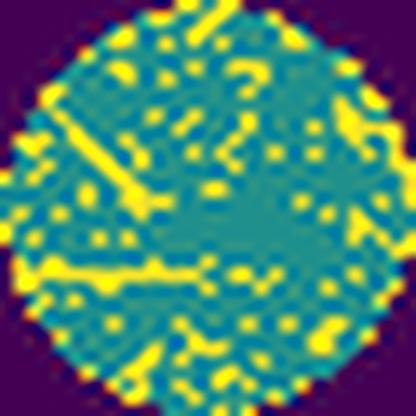Scratch: (40, 84, 176, 224), (10, 251, 224, 300)
